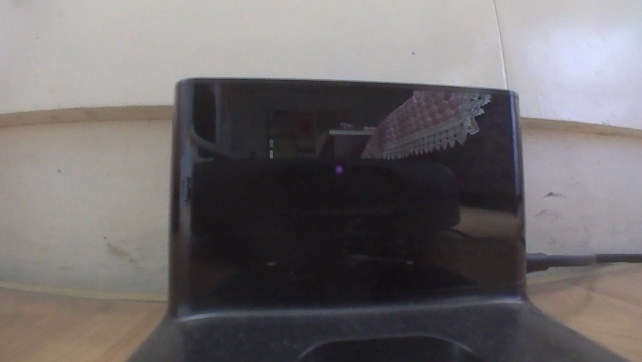charger: (121, 71, 629, 361)
wire: (545, 250, 641, 269)
